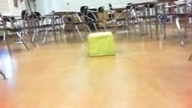cube: (87, 31, 115, 57)
